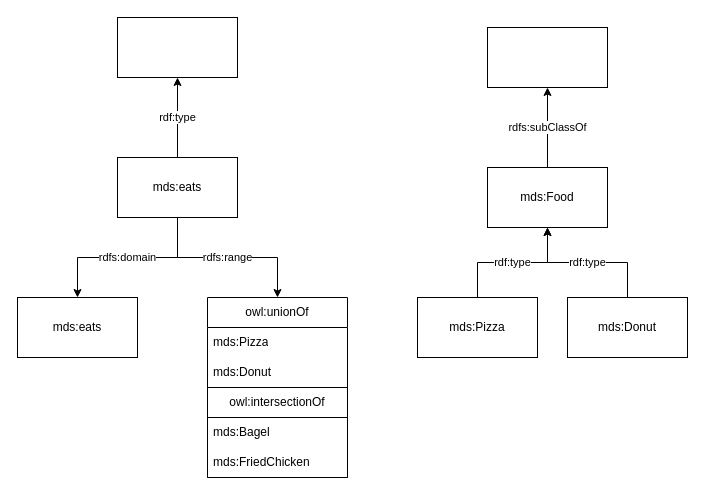
This 705x495 diagram has some shape labels left out. The shapes that lost their labels are listed below. From the top down, each one's centre as x and y in pixels, then its label:
point 177,47: owl:ObjectProperty
point 547,57: cco:Object
